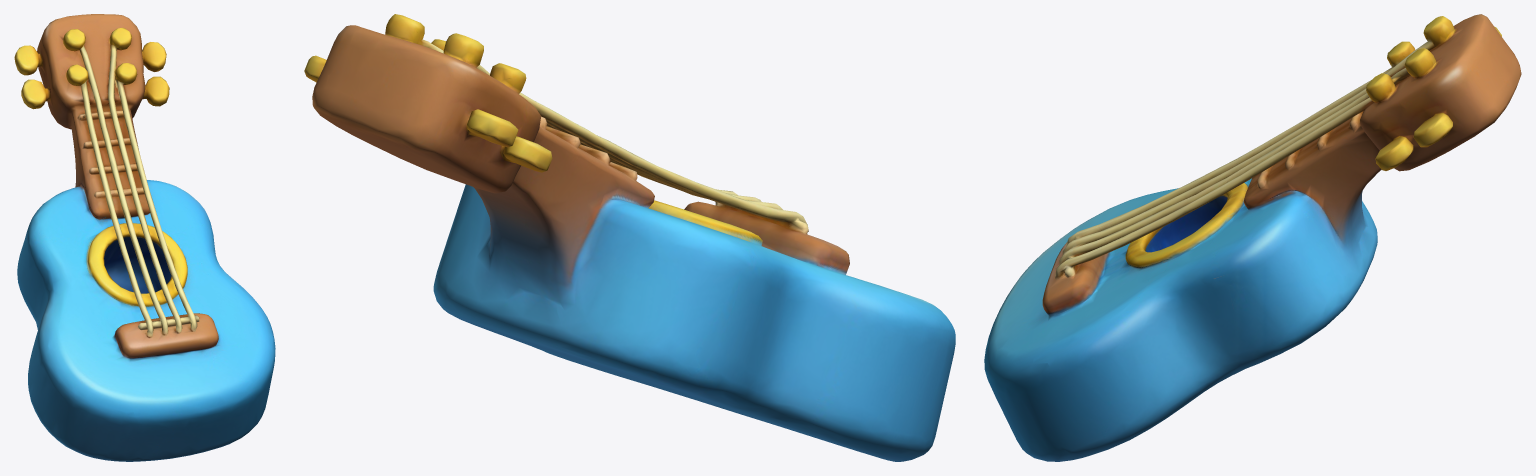
The model's file is cs-guitar.glb.
The picture shows the model from 3 angles, left to right: view 1: azimuth 30°, elevation 25°; view 2: azimuth 150°, elevation 25°; view 3: azimuth 270°, elevation 25°; orthographic projection. The views are drawn at different scales.
Parts seen in each view (by area): view 1: tripo_node_536363f8-4be6-472f-b1da-ab4961a1c432; view 2: tripo_node_536363f8-4be6-472f-b1da-ab4961a1c432; view 3: tripo_node_536363f8-4be6-472f-b1da-ab4961a1c432.
Boxes of the visible parts, bbox=[...] form: tripo_node_536363f8-4be6-472f-b1da-ab4961a1c432: bbox=[14, 14, 275, 461]; tripo_node_536363f8-4be6-472f-b1da-ab4961a1c432: bbox=[304, 14, 955, 461]; tripo_node_536363f8-4be6-472f-b1da-ab4961a1c432: bbox=[984, 14, 1521, 461].
Bounding box in the file's own units: 0.7 × 0.8907 × 1.
1 material, 1 textured.
